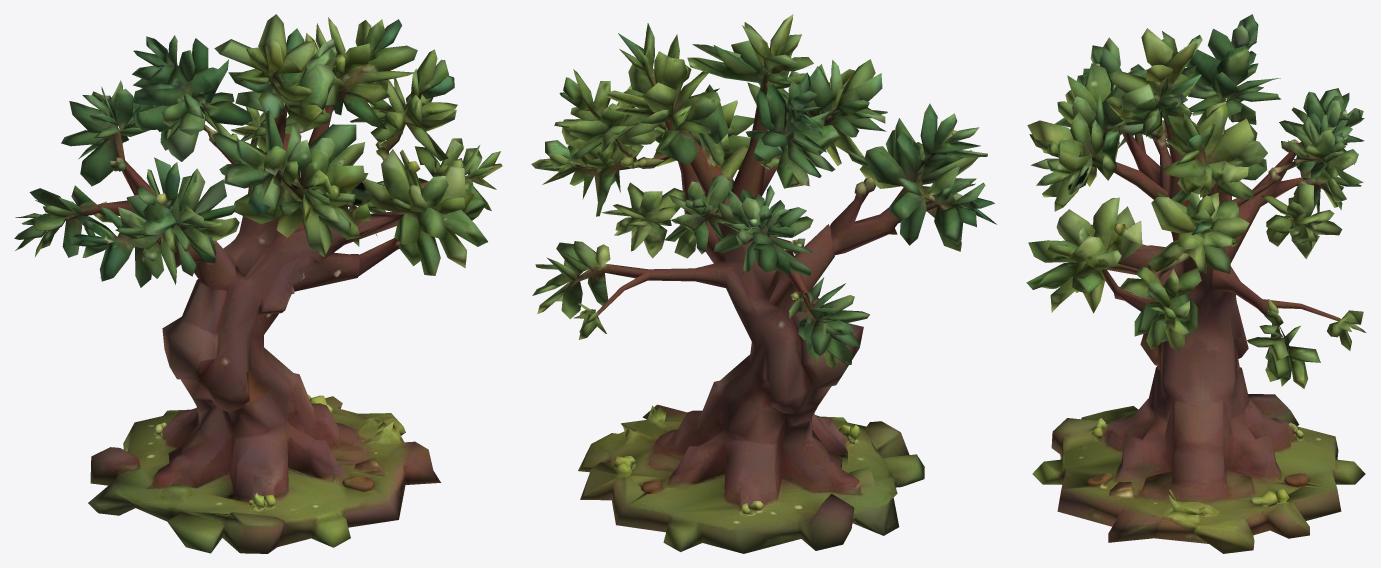
The model's file is oliveira.glb.
3 renders of one model, left to right at view 1: azimuth 30°, elevation 25°; view 2: azimuth 150°, elevation 25°; view 3: azimuth 270°, elevation 25°, orthographic. The views are drawn at different scales.
Visible parts, largest first — view 1: tripo_node_34d3e126-5093-4899-a6b7-428b5d5d4a25; view 2: tripo_node_34d3e126-5093-4899-a6b7-428b5d5d4a25; view 3: tripo_node_34d3e126-5093-4899-a6b7-428b5d5d4a25.
Boxes of the visible parts, x1,y1,x2,y2 form: tripo_node_34d3e126-5093-4899-a6b7-428b5d5d4a25: [14, 14, 502, 553]; tripo_node_34d3e126-5093-4899-a6b7-428b5d5d4a25: [531, 14, 996, 553]; tripo_node_34d3e126-5093-4899-a6b7-428b5d5d4a25: [1026, 14, 1365, 553].
Bounding box in the file's own units: 0.9786 × 0.9671 × 0.6684.
Materials: 1 (1 with a texture image).
